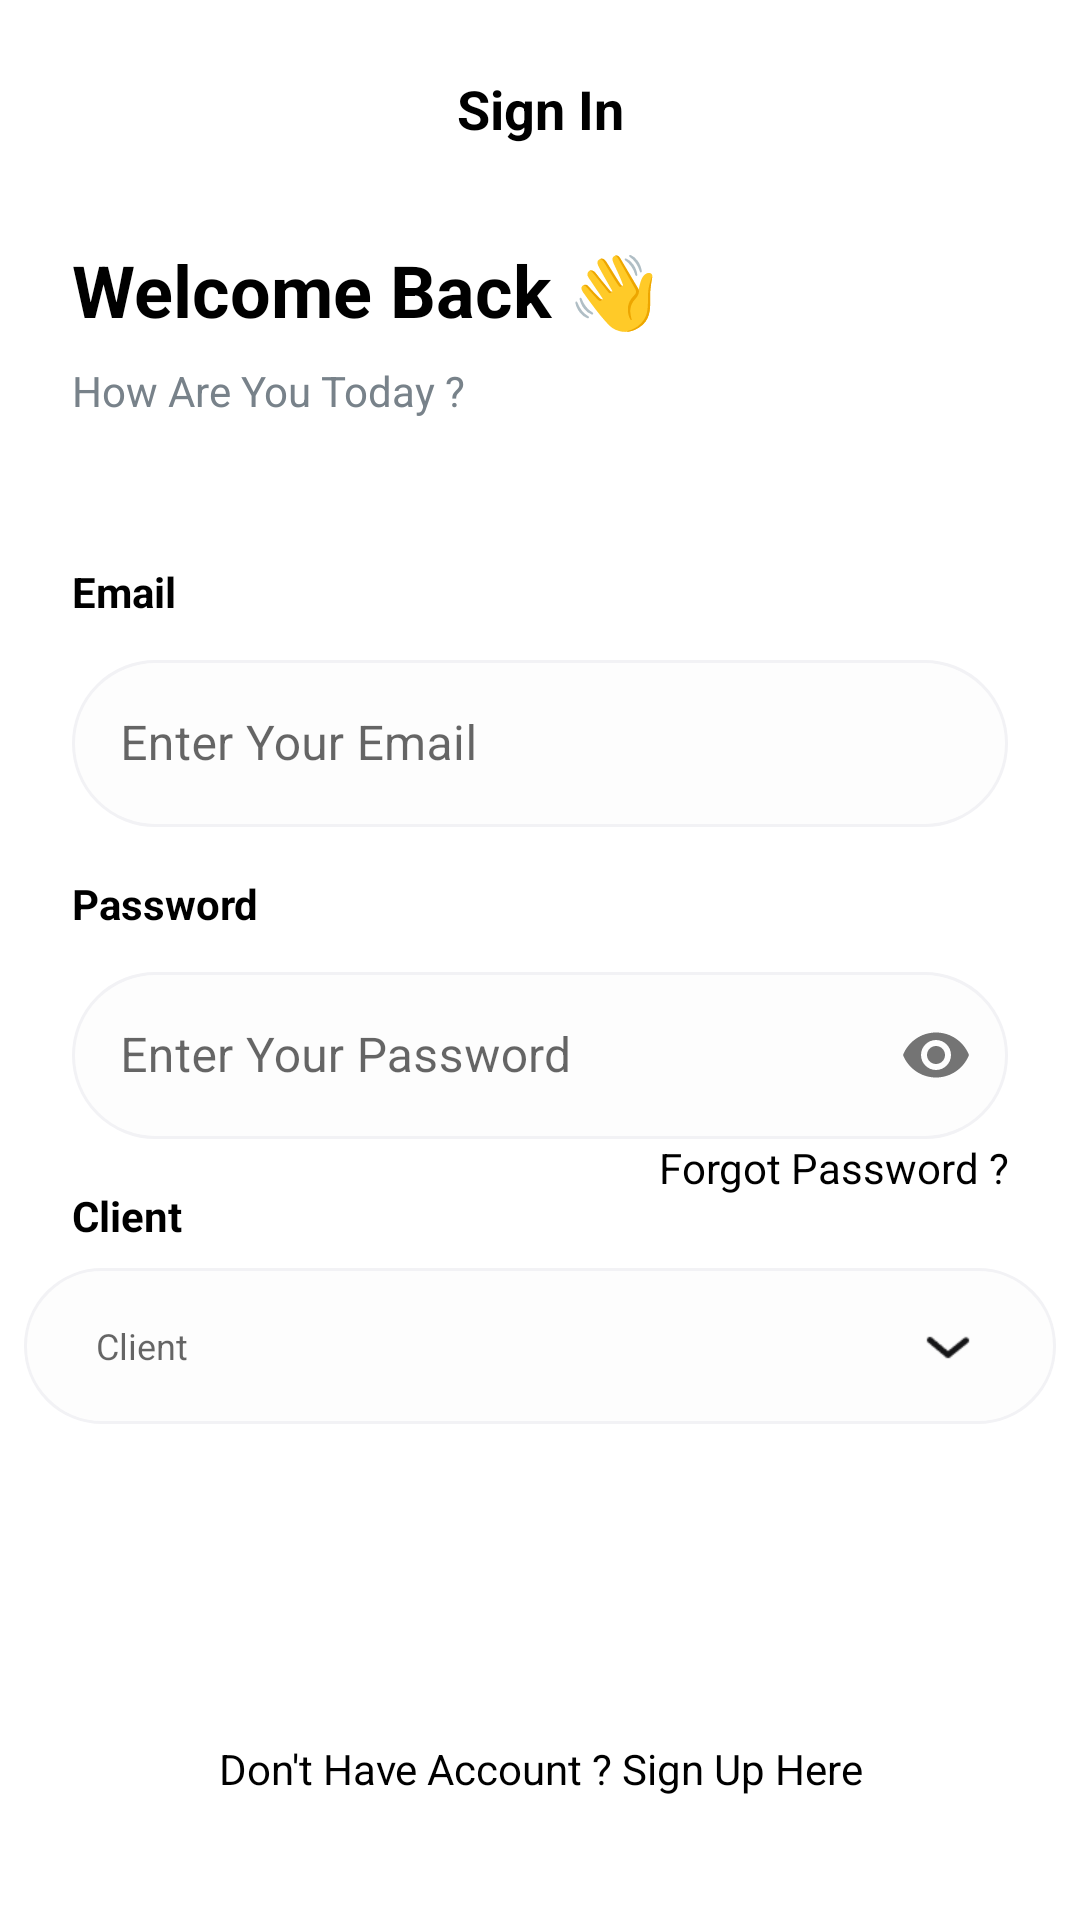

Screen size 1080px x 1920px. Icon name, then its center in pixels as (x,y):
dropdown: (948,1347)
